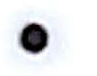cancer: (1, 9, 76, 72)
